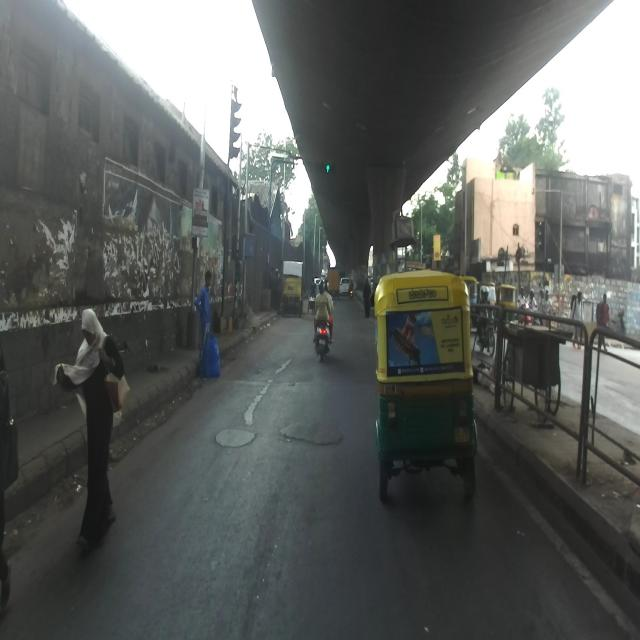autorickshaw: (374, 268, 478, 501), (495, 284, 516, 332), (477, 281, 498, 329), (459, 276, 477, 328), (282, 274, 302, 317)
bus: (401, 261, 426, 271)
motorcycle: (476, 305, 495, 356)
scooter: (315, 305, 333, 362)
